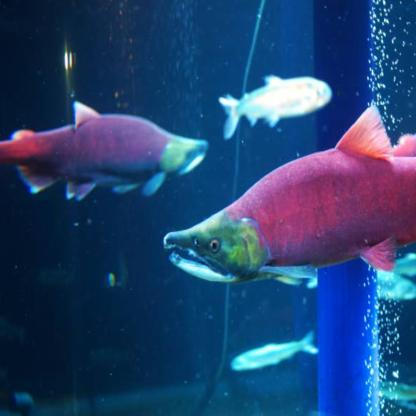sockeye: (166, 139, 416, 284), (0, 96, 202, 207), (216, 66, 321, 137)
